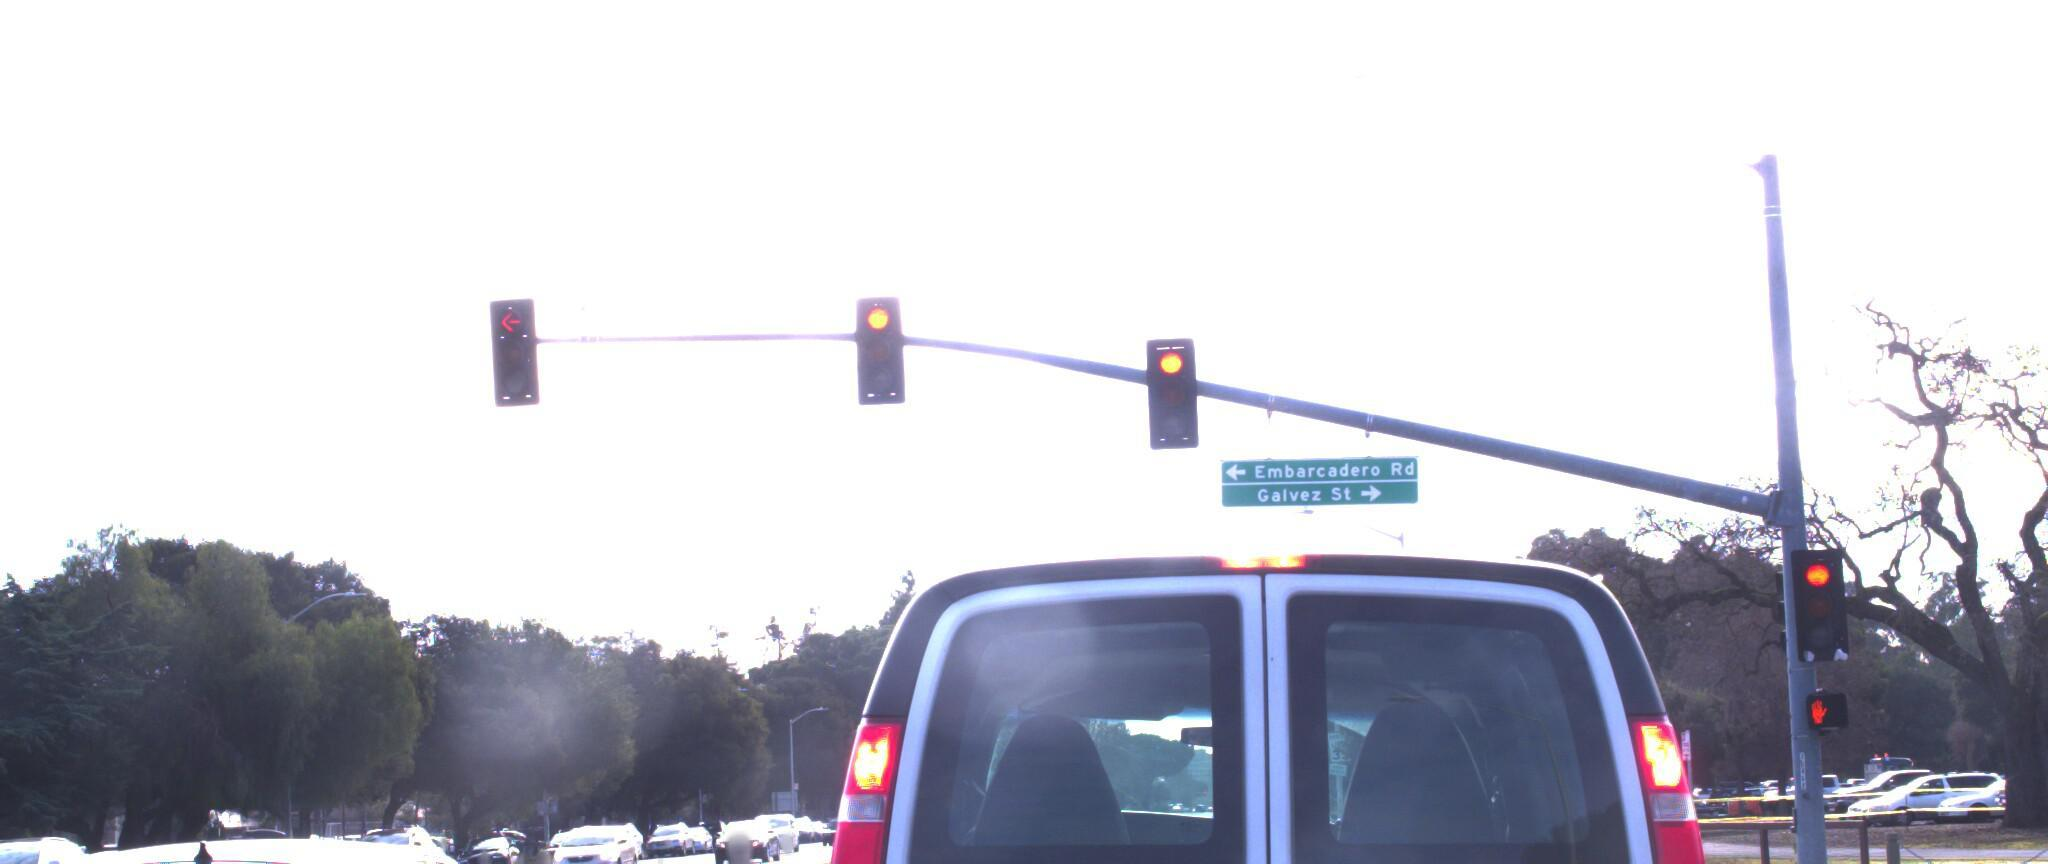car: (746, 536, 1775, 864), (0, 791, 648, 864), (0, 817, 119, 864)
